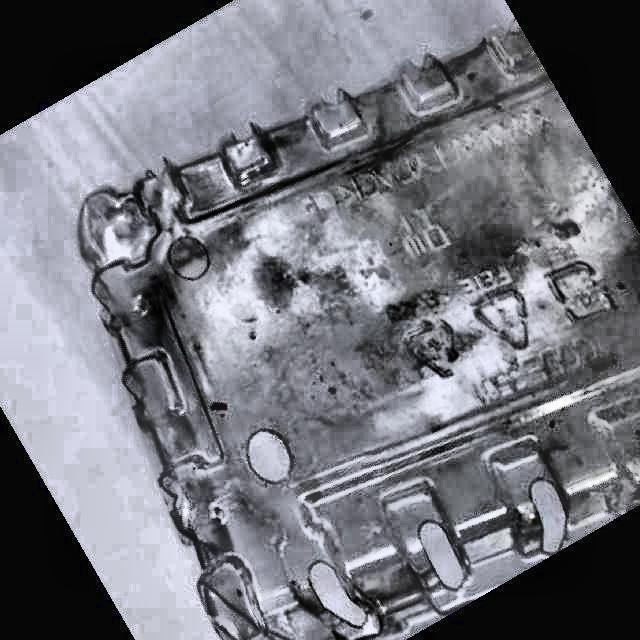plastic: (79, 26, 640, 640)
